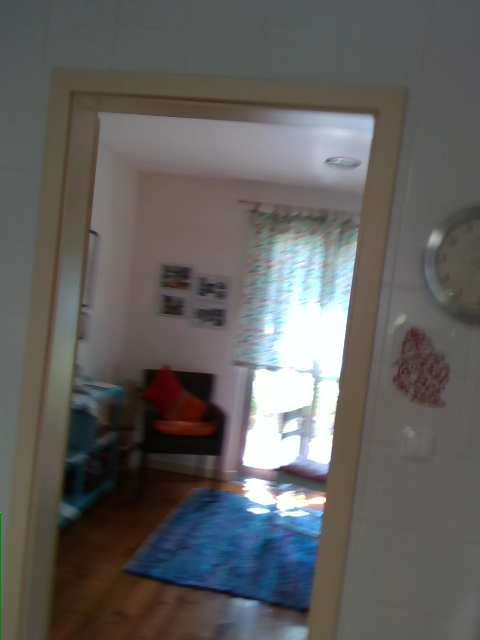open: (0, 71, 399, 639)
